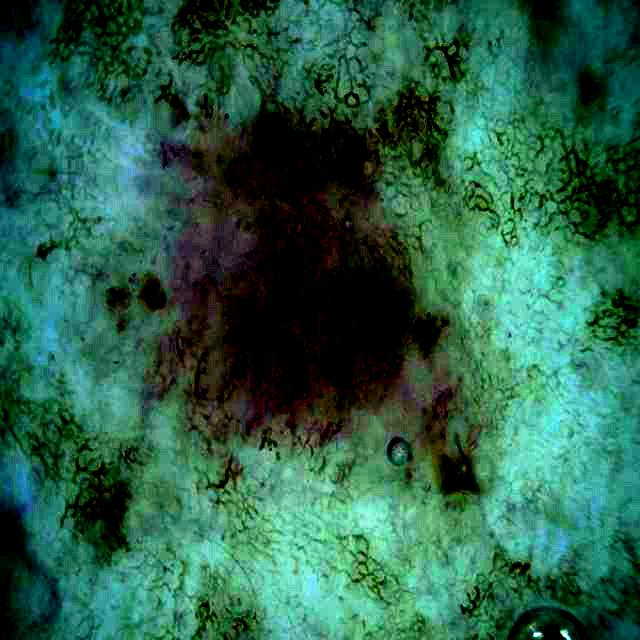BCC: (236, 196, 448, 385)
